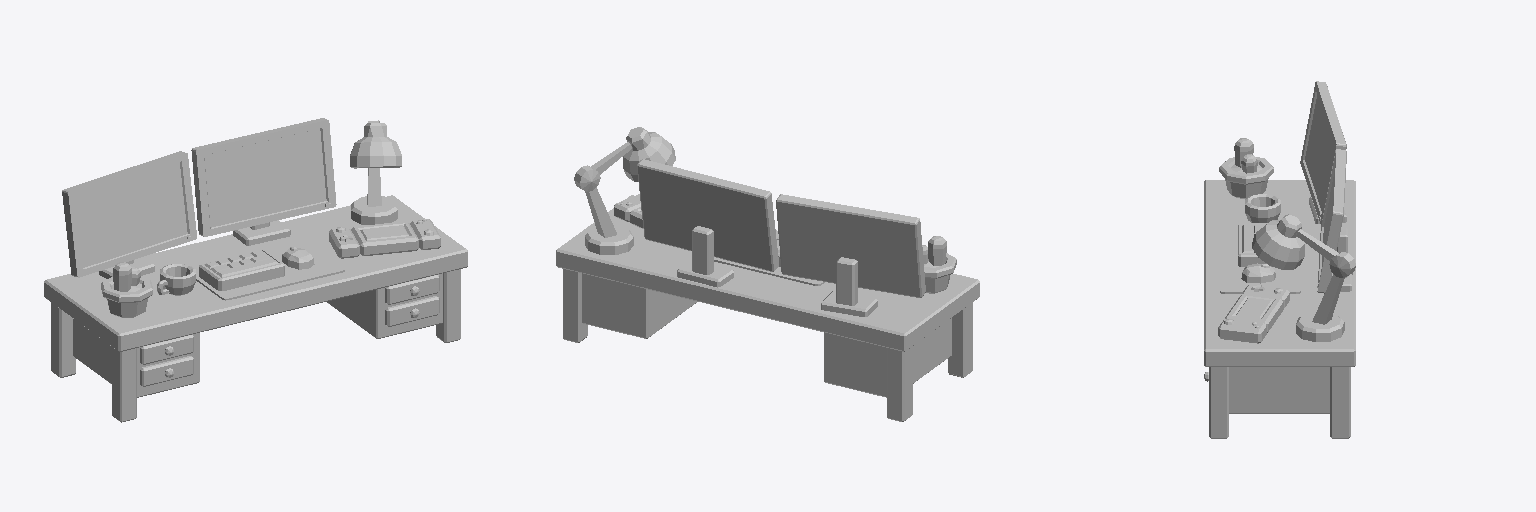
File: desk_large_decorated.obj
3 views of the same model, side by side, from view 1: azimuth 30°, elevation 25°; view 2: azimuth 150°, elevation 25°; view 3: azimuth 270°, elevation 25° (orthographic).
Visible parts, largest first — view 1: desk_large_decorated_Cube.046; view 2: desk_large_decorated_Cube.046; view 3: desk_large_decorated_Cube.046.
Boxes of the visible parts, <box> form: desk_large_decorated_Cube.046: <box>44,118,467,422</box>; desk_large_decorated_Cube.046: <box>556,127,979,421</box>; desk_large_decorated_Cube.046: <box>1204,81,1355,438</box>.
Bounding box in the file's own units: 4 × 2.18 × 1.51.